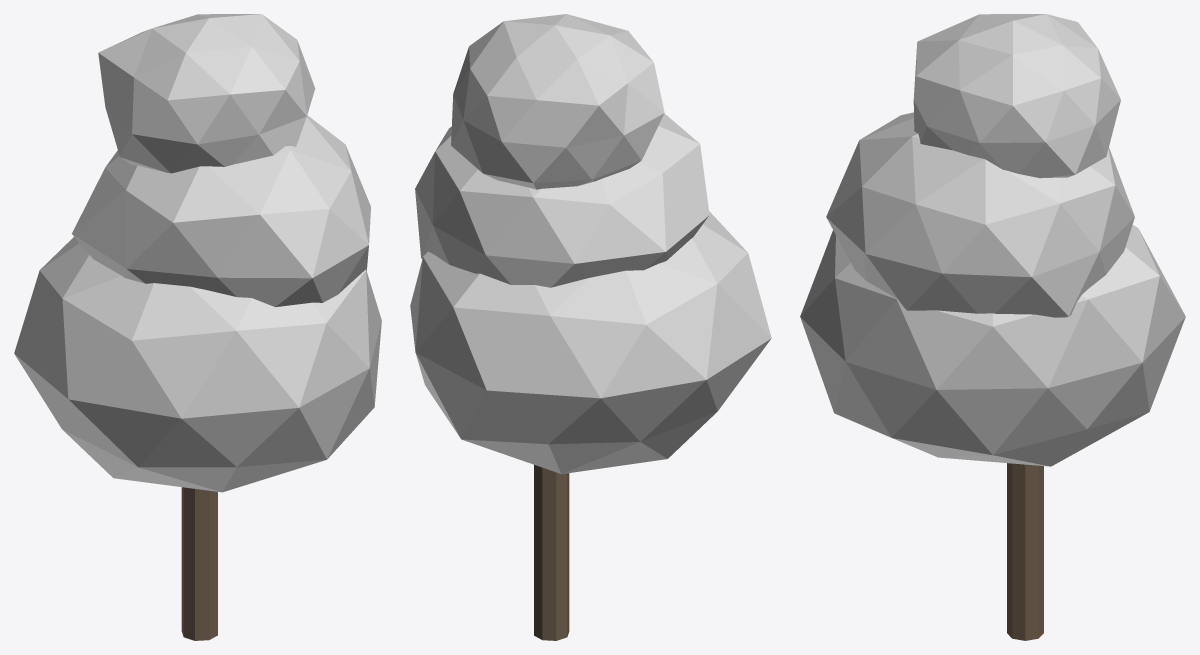
File: v_tree.glb
3 views of the same model, side by side, from view 1: azimuth 30°, elevation 25°; view 2: azimuth 150°, elevation 25°; view 3: azimuth 270°, elevation 25° (orthographic). The views are drawn at different scales.
Visible parts, largest first — view 1: Icosphere, Icosphere.001, Icosphere.002, Cylinder; view 2: Icosphere, Icosphere.001, Icosphere.002, Cylinder; view 3: Icosphere, Icosphere.001, Icosphere.002, Cylinder.
Boxes of the visible parts, box(x1,y1,x2,y2) form: Icosphere: box(14, 237, 381, 492); Icosphere.001: box(72, 115, 370, 307); Icosphere.002: box(98, 14, 315, 173); Cylinder: box(181, 487, 217, 640); Icosphere: box(410, 211, 771, 474); Icosphere.001: box(415, 113, 709, 287); Icosphere.002: box(451, 14, 664, 189); Cylinder: box(534, 465, 569, 640); Icosphere: box(800, 225, 1185, 466); Icosphere.001: box(826, 112, 1134, 317); Icosphere.002: box(913, 14, 1120, 178); Cylinder: box(1007, 463, 1043, 640).
Size of the model in its own units: 2.33 by 4.36 by 2.49.
